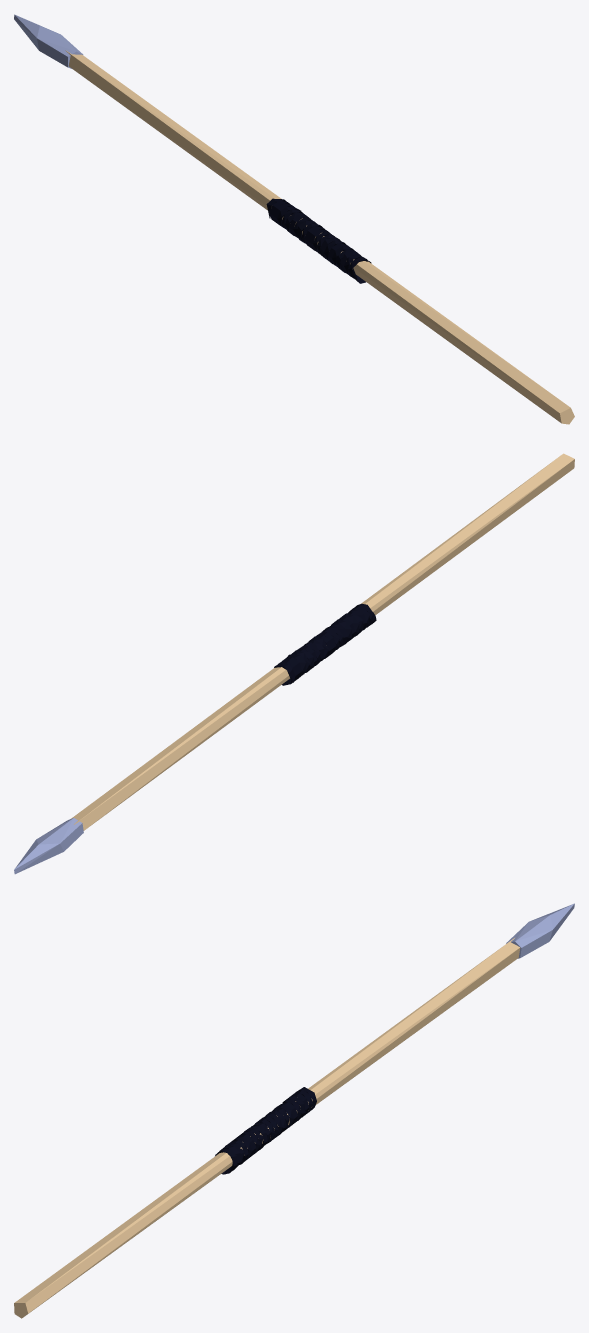
The model's file is Spear.fbx.
3 renders of one model, top to bottom at view 1: azimuth 30°, elevation 25°; view 2: azimuth 150°, elevation 25°; view 3: azimuth 330°, elevation 25°, orthographic.
Visible parts, largest first — view 1: Spear; view 2: Spear; view 3: Spear.
Boxes of the visible parts, bbox=[...] form: Spear: bbox=[14, 14, 574, 424]; Spear: bbox=[14, 453, 574, 874]; Spear: bbox=[14, 903, 574, 1318].
Bounding box in the file's own units: 93.45 × 82.02 × 3594.
